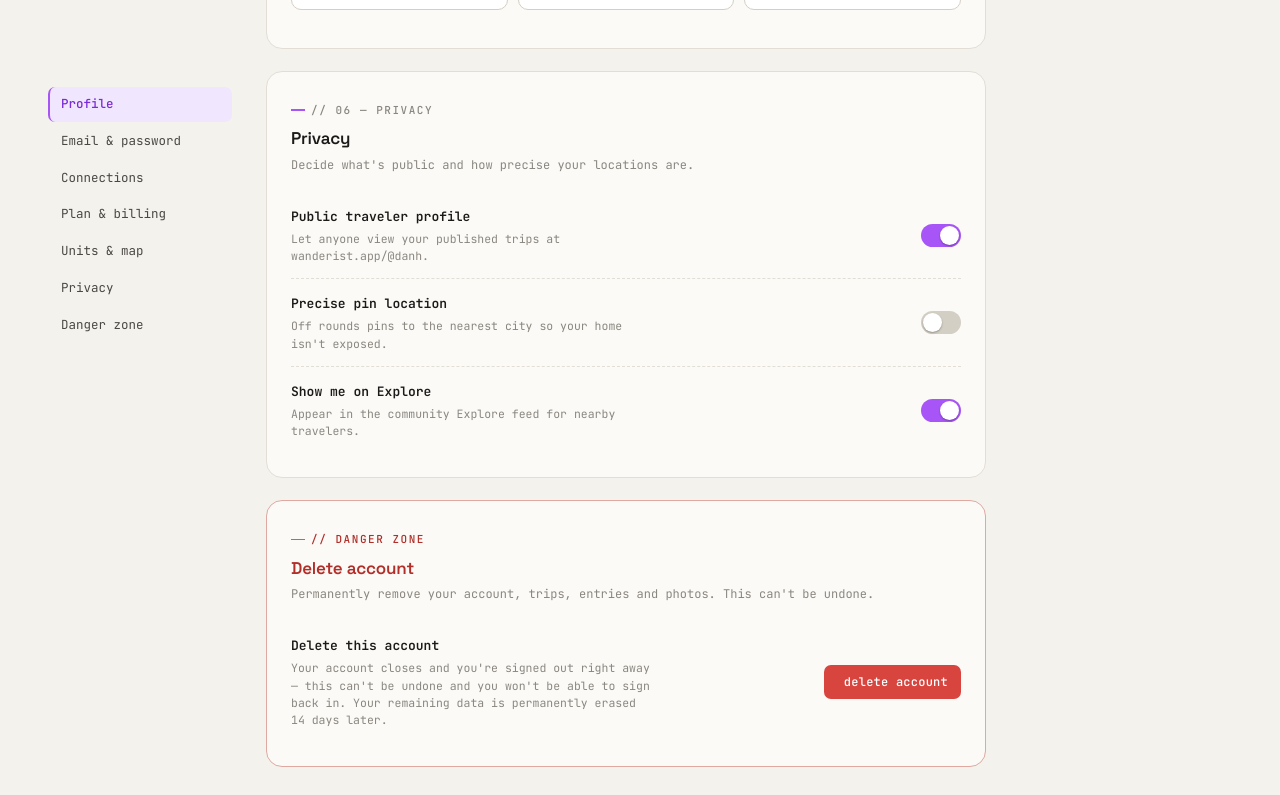
Test: Settings page (/settings) › does not promise a change-of-mind window in the delete confirmation modal
(page scrolled)
Click the button "delete account" at x=893, y=682, box [824,665,961,699]
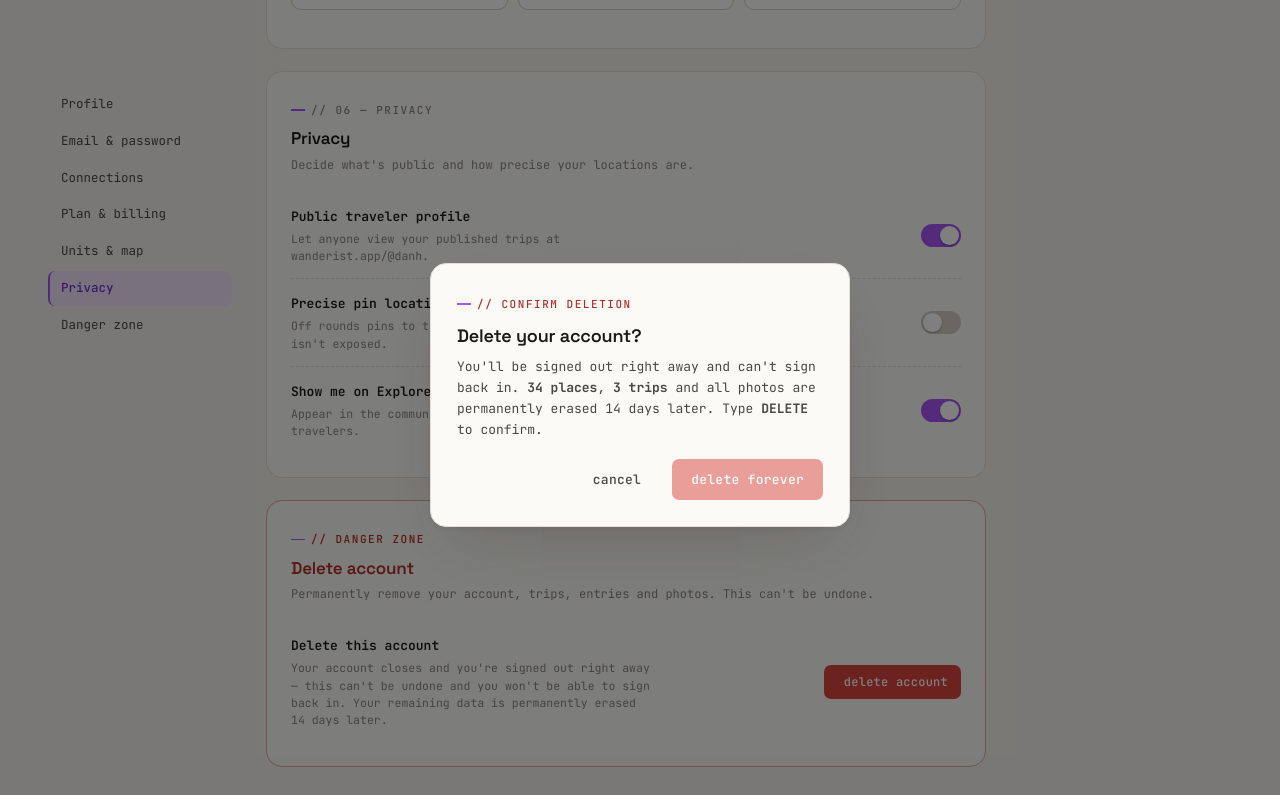
Result: the text "right away" is shown at [457,358,816,396]
